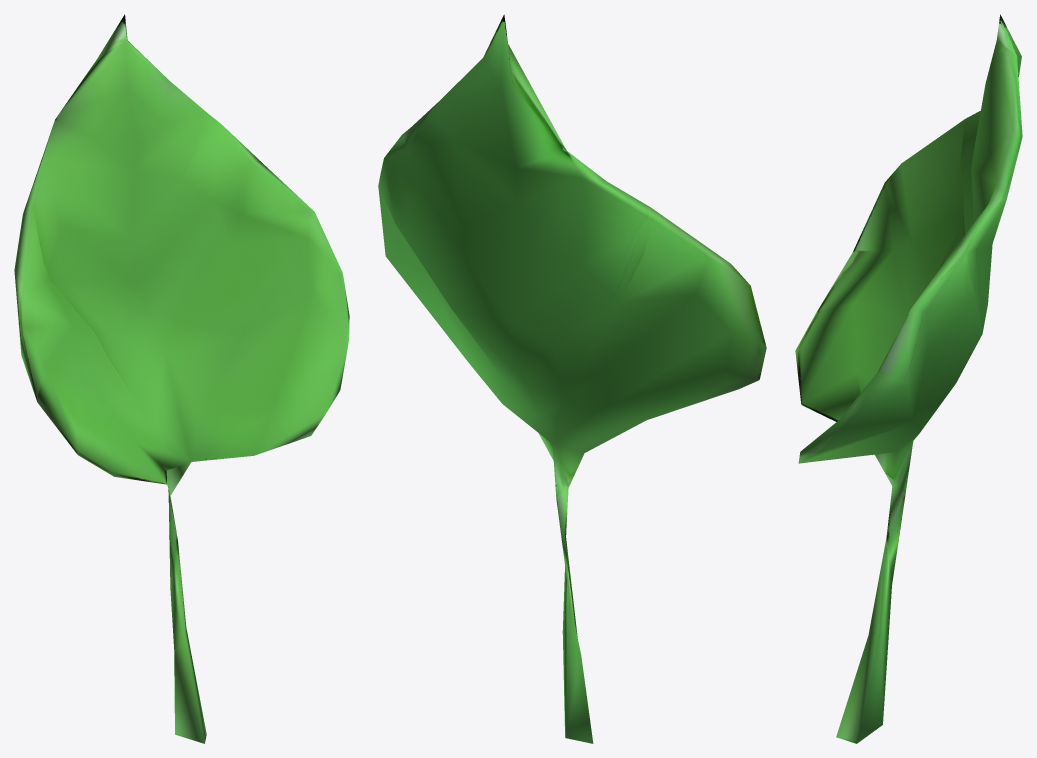
The model's file is leaf-single.glb.
3 views of the same model, side by side, from view 1: azimuth 30°, elevation 25°; view 2: azimuth 150°, elevation 25°; view 3: azimuth 270°, elevation 25° (orthographic). The views are drawn at different scales.
Size of the model in its own units: 0.9892 by 2 by 0.5712.
1 material, 1 textured.
